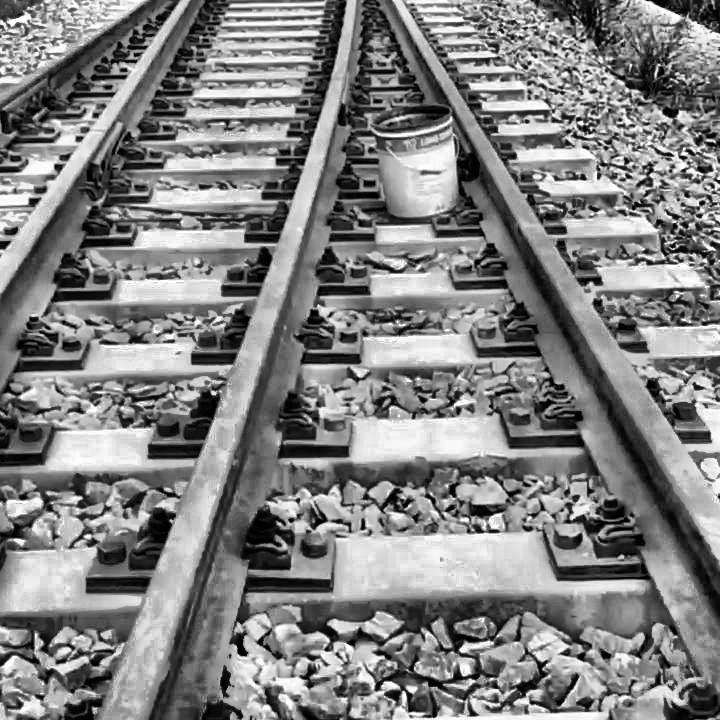Trash: (374, 89, 483, 223)
